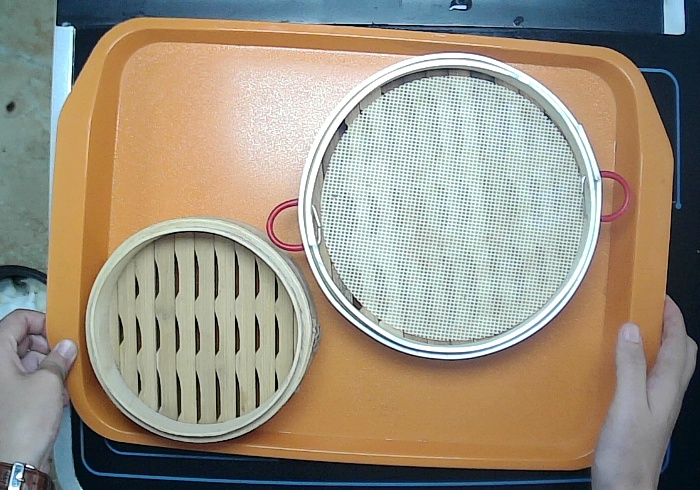ZNLD-Da_Zheng_Long: (262, 47, 633, 360)
ZNLD-Xiao_Zheng_Long: (82, 213, 320, 448)
